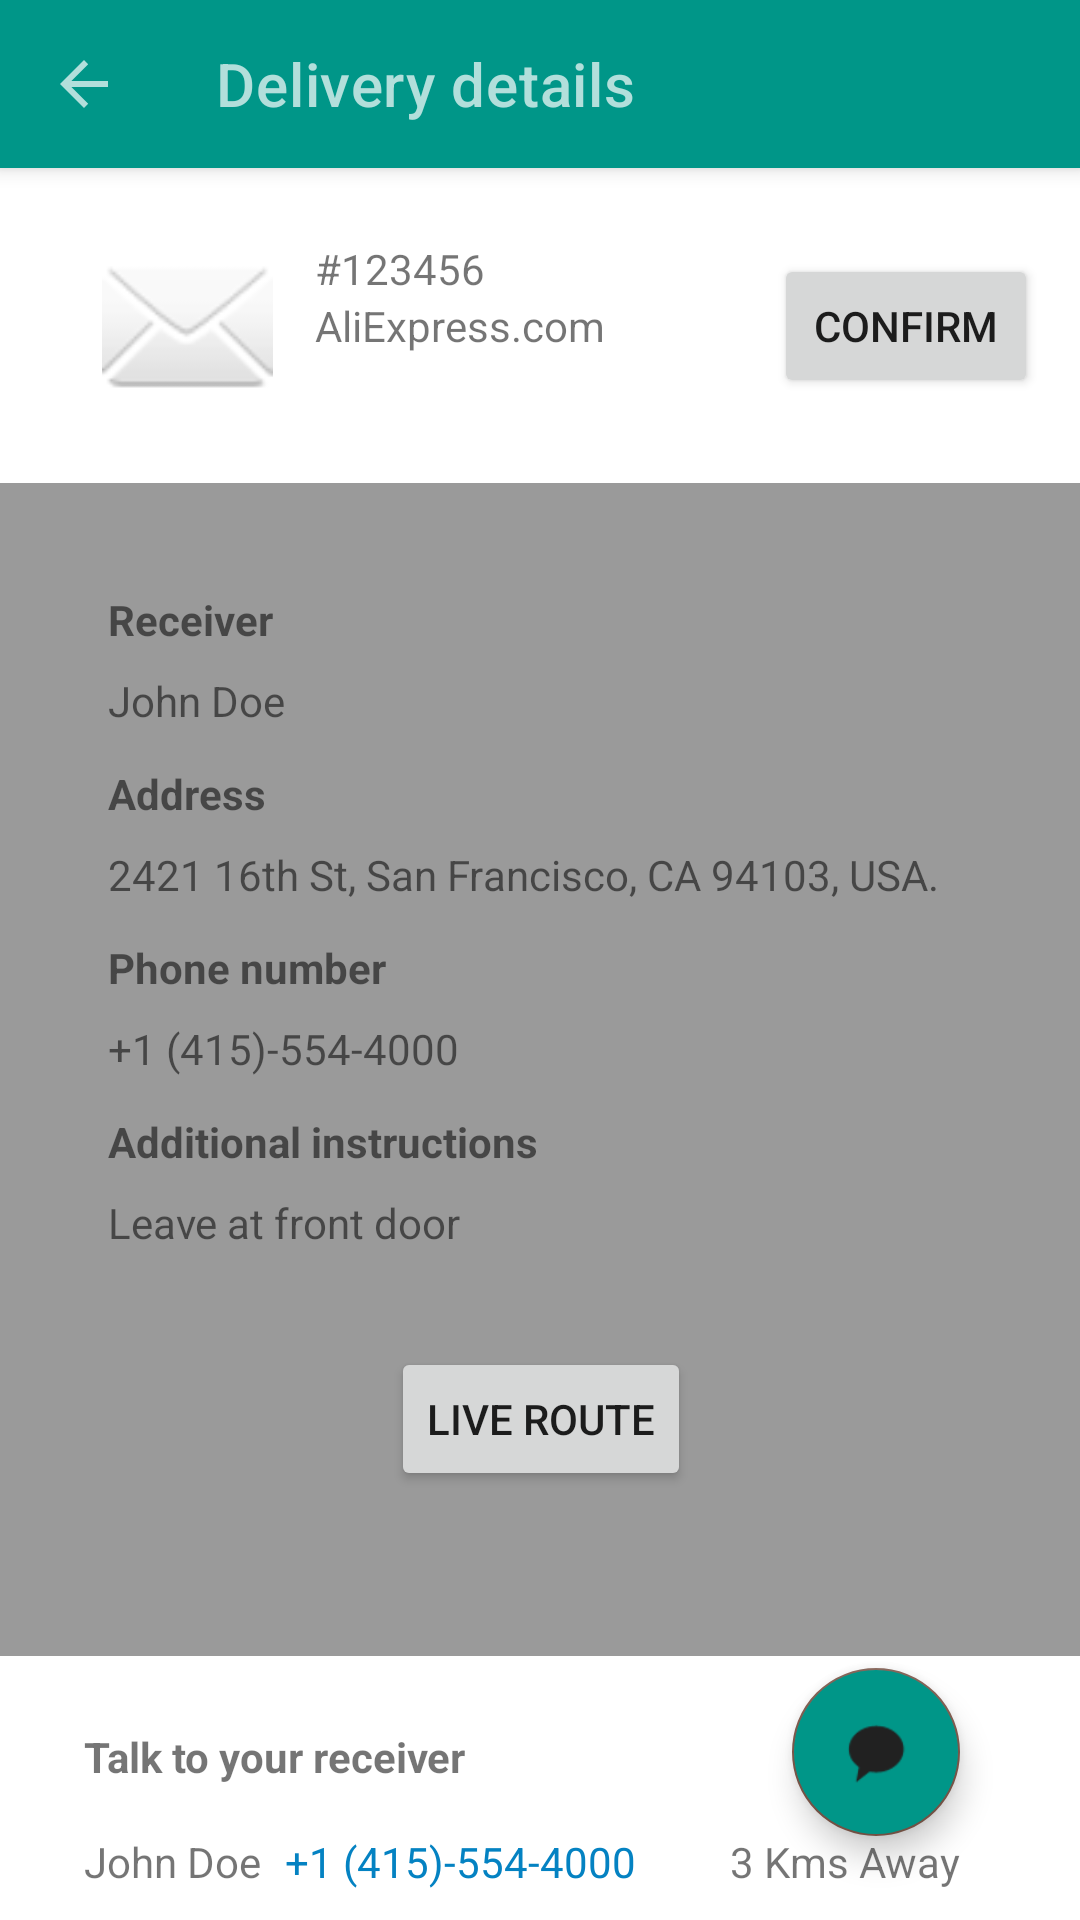

Icon click points for this 1080px×1920px phone screenshot, format [x,y]:
Chat button: [876,1752]
email: [187,328]
